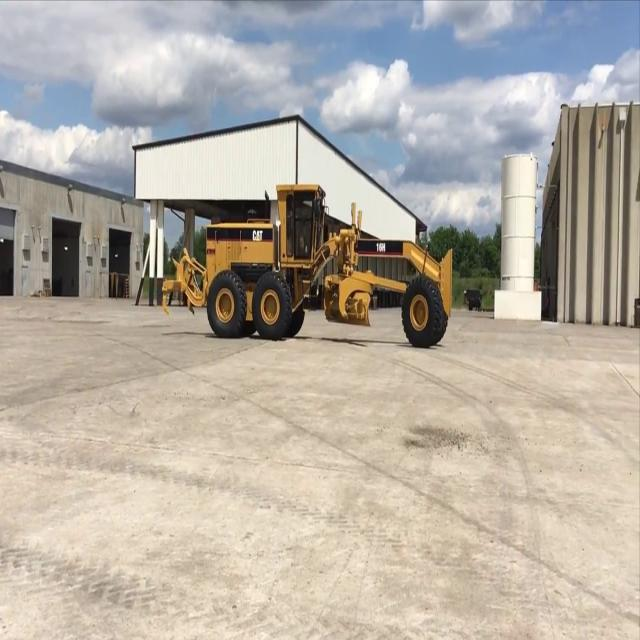buldozerpayloadergrader: (166, 183, 452, 348)
